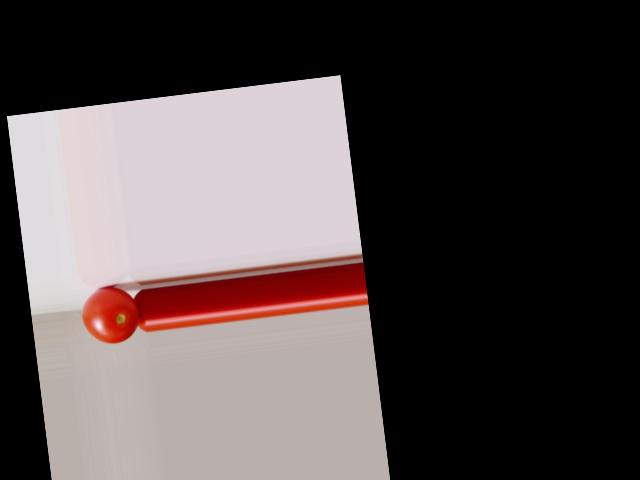tomato: (79, 284, 141, 346)
